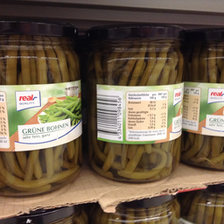beans: (89, 23, 185, 186), (1, 21, 81, 198), (184, 18, 224, 173)
